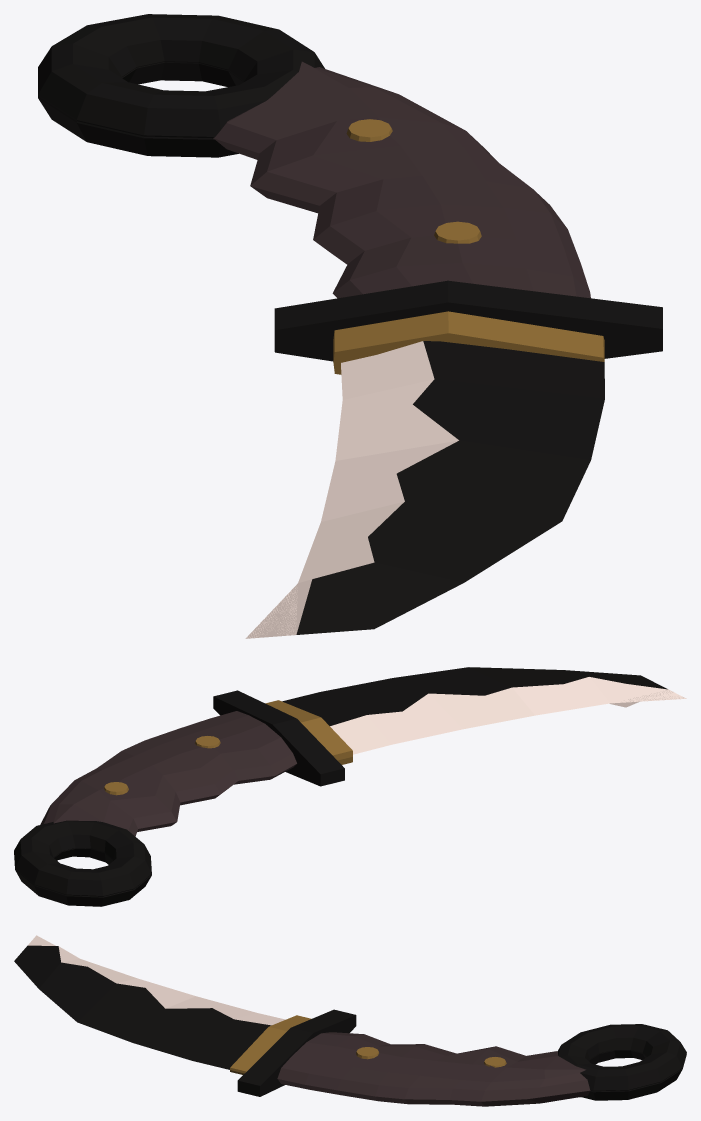
The model's file is dagger.fbx.
3 views of the same model, one above another, from view 1: azimuth 30°, elevation 25°; view 2: azimuth 150°, elevation 25°; view 3: azimuth 270°, elevation 25° (orthographic). The views are drawn at different scales.
Visible parts, largest first — view 1: dagger; view 2: dagger; view 3: dagger.
Part boxes in pixels (box(x1,y1,x2,y2)): dagger: box(38, 14, 662, 638); dagger: box(14, 667, 686, 906); dagger: box(14, 935, 686, 1106).
Size of the model in its own units: 1.31 by 0.1412 by 2.24.
Materials: 2 (2 with a texture image).
